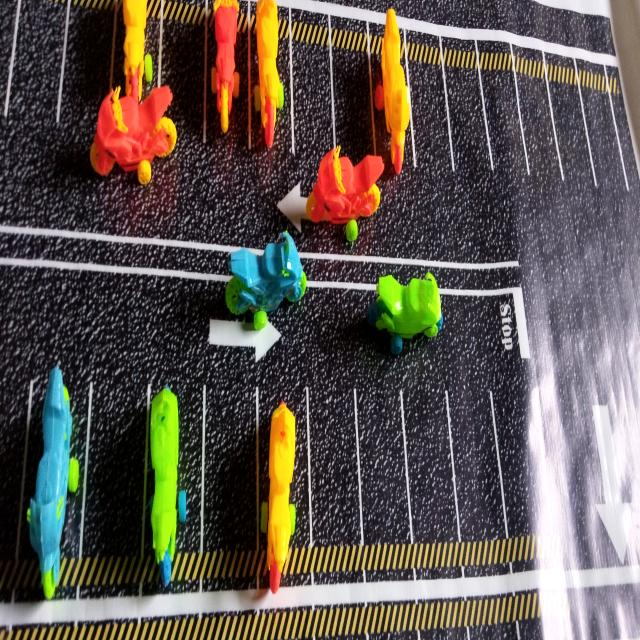bikes: (90, 79, 177, 184), (226, 231, 306, 327), (306, 146, 384, 241), (367, 272, 442, 355)
occupied: (15, 366, 90, 599), (146, 386, 205, 585), (260, 402, 309, 592), (370, 8, 416, 174), (204, 0, 252, 149), (253, 0, 293, 153), (109, 0, 160, 98)
slots: (495, 350, 553, 536), (83, 388, 146, 556), (204, 370, 257, 549), (449, 379, 505, 540), (357, 390, 410, 543), (58, 9, 113, 156), (404, 389, 457, 541), (310, 389, 360, 544), (8, 2, 66, 127), (480, 69, 528, 185), (293, 41, 333, 170), (448, 70, 492, 182), (163, 24, 204, 144), (410, 63, 451, 176), (333, 49, 373, 163), (518, 74, 560, 180), (551, 85, 588, 180), (583, 89, 619, 183)
